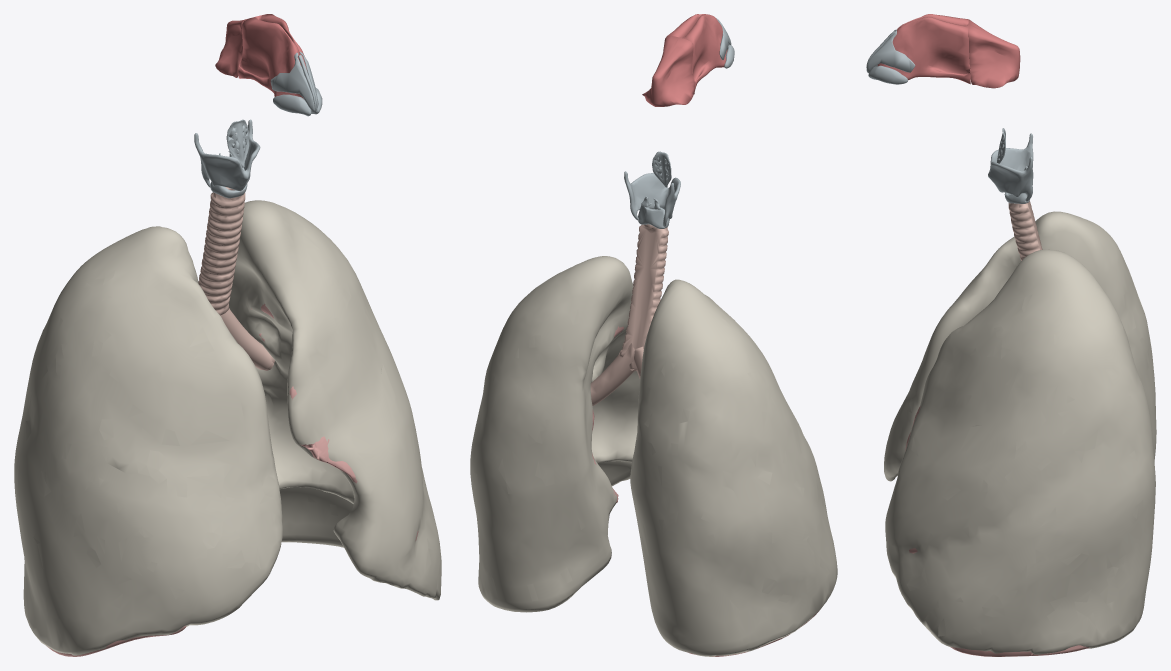
File: adult_male.respiratory.LOD0.glb
3 renders of one model, left to right at view 1: azimuth 30°, elevation 25°; view 2: azimuth 150°, elevation 25°; view 3: azimuth 270°, elevation 25°, orthographic. The views are drawn at different scales.
Parts seen in each view (by area): view 1: ADULT.MALE.RESPIRATORY.PLEURA, ADULT.MALE.RESPIRATORY.TRACHEA, ADULT.MALE.RESPIRATORY.MUCOSA_OF_NASAL_CAVITY, ADULT.MALE.RESPIRATORY.THYROID_CARTILAGE, ADULT.MALE.RESPIRATORY.NASOPHARYNX, ADULT.MALE.RESPIRATORY.LEFT_MAIN_BRONCHUS, ADULT.MALE.RESPIRATORY.LATERAL_PROCESS_OF_NASAL_SEPTAL_CARTI, ADULT.MALE.RESPIRATORY.SUPERIOR_LOBE_OF_LEFT_LUNG, ADULT.MALE.RESPIRATORY.EPIGLOTTIS; view 2: ADULT.MALE.RESPIRATORY.PLEURA, ADULT.MALE.RESPIRATORY.TRACHEA, ADULT.MALE.RESPIRATORY.NASOPHARYNX, ADULT.MALE.RESPIRATORY.MUCOSA_OF_NASAL_CAVITY, ADULT.MALE.RESPIRATORY.THYROID_CARTILAGE, ADULT.MALE.RESPIRATORY.LEFT_MAIN_BRONCHUS; view 3: ADULT.MALE.RESPIRATORY.PLEURA, ADULT.MALE.RESPIRATORY.MUCOSA_OF_NASAL_CAVITY, ADULT.MALE.RESPIRATORY.NASOPHARYNX, ADULT.MALE.RESPIRATORY.THYROID_CARTILAGE, ADULT.MALE.RESPIRATORY.TRACHEA, ADULT.MALE.RESPIRATORY.LATERAL_PROCESS_OF_NASAL_SEPTAL_CARTI, ADULT.MALE.RESPIRATORY.INFERIOR_LOBE_OF_LEFT_LUNG, ADULT.MALE.RESPIRATORY.MAJOR_ALAR_CARTILAGE.L.
Part boxes in pixels (x1,y1,x2,y2): ADULT.MALE.RESPIRATORY.PLEURA: (14,200,441,655); ADULT.MALE.RESPIRATORY.TRACHEA: (198,187,245,315); ADULT.MALE.RESPIRATORY.MUCOSA_OF_NASAL_CAVITY: (238,14,306,98); ADULT.MALE.RESPIRATORY.THYROID_CARTILAGE: (194,119,260,191); ADULT.MALE.RESPIRATORY.NASOPHARYNX: (215,14,263,77); ADULT.MALE.RESPIRATORY.LEFT_MAIN_BRONCHUS: (220,308,272,369); ADULT.MALE.RESPIRATORY.LATERAL_PROCESS_OF_NASAL_SEPTAL_CARTI: (270,52,314,111); ADULT.MALE.RESPIRATORY.SUPERIOR_LOBE_OF_LEFT_LUNG: (251,303,418,540); ADULT.MALE.RESPIRATORY.EPIGLOTTIS: (226,119,249,167); ADULT.MALE.RESPIRATORY.PLEURA: (470,256,837,656); ADULT.MALE.RESPIRATORY.TRACHEA: (619,224,668,370); ADULT.MALE.RESPIRATORY.NASOPHARYNX: (642,36,694,106); ADULT.MALE.RESPIRATORY.MUCOSA_OF_NASAL_CAVITY: (667,14,727,89); ADULT.MALE.RESPIRATORY.THYROID_CARTILAGE: (624,171,680,226); ADULT.MALE.RESPIRATORY.LEFT_MAIN_BRONCHUS: (590,343,634,405); ADULT.MALE.RESPIRATORY.PLEURA: (884,211,1156,654); ADULT.MALE.RESPIRATORY.MUCOSA_OF_NASAL_CAVITY: (877,14,970,84); ADULT.MALE.RESPIRATORY.NASOPHARYNX: (968,19,1020,88); ADULT.MALE.RESPIRATORY.THYROID_CARTILAGE: (988,133,1033,201); ADULT.MALE.RESPIRATORY.TRACHEA: (1008,201,1042,260); ADULT.MALE.RESPIRATORY.LATERAL_PROCESS_OF_NASAL_SEPTAL_CARTI: (866,30,915,73); ADULT.MALE.RESPIRATORY.INFERIOR_LOBE_OF_LEFT_LUNG: (950,645,1089,656); ADULT.MALE.RESPIRATORY.MAJOR_ALAR_CARTILAGE.L: (868,65,907,84).
Bounding box in the file's own units: 0.2633 × 0.4306 × 0.2003.
